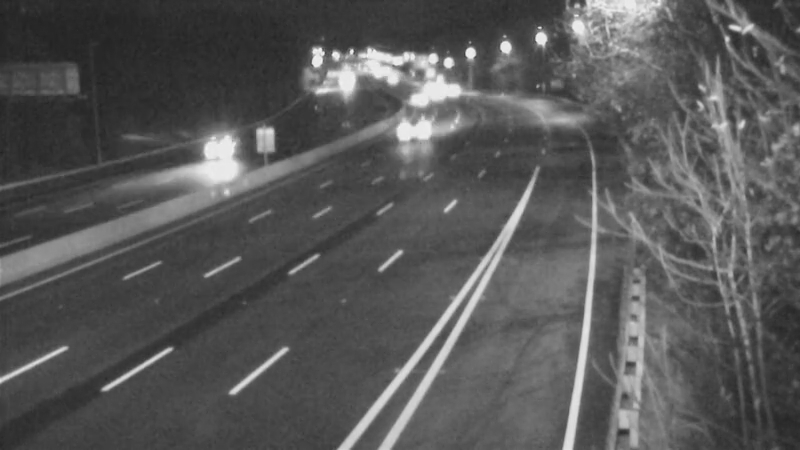vehicle: (412, 71, 462, 121), (388, 72, 438, 122), (388, 104, 438, 154), (201, 116, 251, 166)
